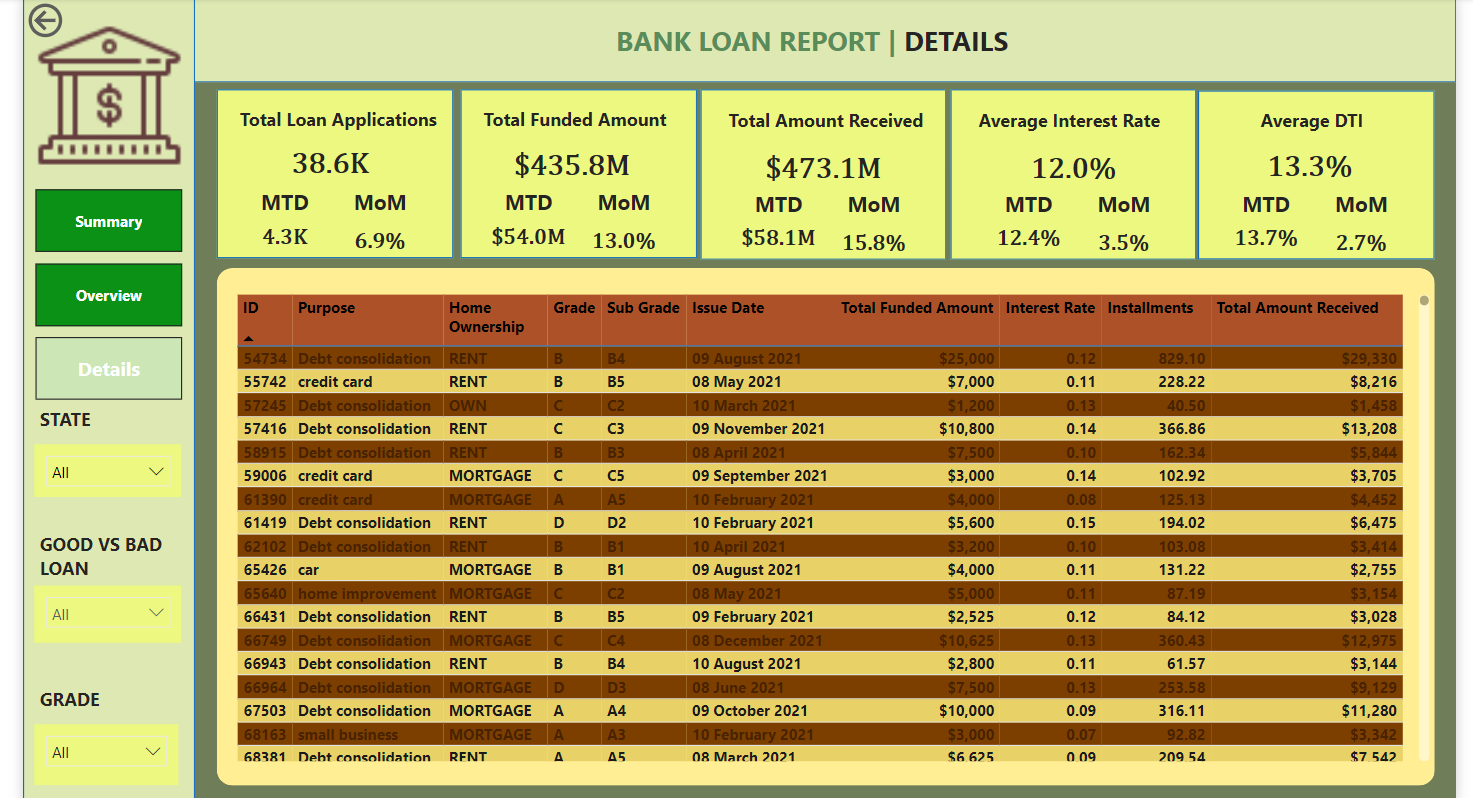

What the dashboard file says about the page in this screenshot:
{"tool":"powerbi","page":{"name":"Details","canvas":[1280,720],"ordinal":2},"visuals":[{"type":"shape","box":[0,0,1280.3,75.5],"z":0},{"type":"shape","box":[172.9,81,211.3,150.9],"z":0,"group":"g1"},{"type":"shape","box":[391.1,81,211.3,150.9],"z":0,"group":"g2"},{"type":"shape","box":[605.1,81,219.6,152.3],"z":0,"group":"g3"},{"type":"shape","box":[828.8,81,219.6,152.3],"z":0,"group":"g5"},{"type":"shape","box":[1049.7,82.3,211.3,150.9],"z":0,"group":"g4"},{"type":"shape","box":[0,0,153.7,720.4],"z":1000},{"type":"card","fields":{"Values":["financial_loan.Total Loan Applications"]},"box":[218.2,116.7,111.1,59],"z":1000,"group":"g1"},{"type":"card","fields":{"Values":["financial_loan.Total Funded Amount"]},"box":[417,121.4,148.2,54.9],"z":1000,"group":"g2"},{"type":"card","fields":{"Values":["financial_loan.Avg DTI"]},"box":[1075.6,122.7,148.2,54.9],"z":1000,"group":"g4"},{"type":"card","fields":{"Values":["financial_loan.Total Amount Received"]},"box":[640.4,123.2,148.2,54.9],"z":1000,"group":"g3"},{"type":"card","fields":{"Values":["financial_loan.Avg Int Rate"]},"box":[864.1,123.2,148.2,54.9],"z":1000,"group":"g5"},{"type":"textbox","box":[524.3,17.1,428.6,47.1],"z":2000},{"type":"textbox","box":[183.9,90.6,200.3,45.3],"z":2000,"group":"g1"},{"type":"textbox","box":[402.1,90.6,200.3,45.3],"z":2000,"group":"g2"},{"type":"textbox","box":[1060.7,91.9,200.3,45.3],"z":2000,"group":"g4"},{"type":"textbox","box":[625.4,92.4,200.3,45.3],"z":2000,"group":"g3"},{"type":"textbox","box":[849.1,92.4,200.3,45.3],"z":2000,"group":"g5"},{"type":"group","id":"g1","title":"Group 1","box":[172.9,81,211.3,159.2],"z":3000},{"type":"card","title":"MTD","fields":{"Values":["financial_loan.MTD Loan Applications"]},"box":[182.5,168.8,101.5,63.1],"z":3000,"group":"g1"},{"type":"card","title":"MTD","fields":{"Values":["financial_loan.MTD Funded Amount"]},"box":[400.7,168.8,101.5,63.1],"z":3000,"group":"g2"},{"type":"card","title":"MTD","fields":{"Values":["financial_loan.MTD dti"]},"box":[1059.3,170.1,101.5,63.1],"z":3000,"group":"g4"},{"type":"card","title":"MTD","fields":{"Values":["financial_loan.MTD Amount Received"]},"box":[624.1,170.7,101.5,63.1],"z":3000,"group":"g3"},{"type":"card","title":"MTD","fields":{"Values":["financial_loan.MTD int rate"]},"box":[847.8,170.7,101.5,63.1],"z":3000,"group":"g5"},{"type":"group","id":"g2","title":"Group 1","box":[391.1,81,211.3,159.2],"z":4000},{"type":"card","title":"MoM","fields":{"Values":["financial_loan.MoM Loan Applications"]},"box":[278.6,168.8,79.6,71.4],"z":4000,"group":"g1"},{"type":"card","title":"MoM","fields":{"Values":["financial_loan.MoM funded amount"]},"box":[496.8,168.8,79.6,71.4],"z":4000,"group":"g2"},{"type":"card","title":"MoM","fields":{"Values":["financial_loan.MoM dti"]},"box":[1155.4,170.1,79.6,71.4],"z":4000,"group":"g4"},{"type":"card","title":"MoM","fields":{"Values":["financial_loan.MoM amount received"]},"box":[720.1,170.7,79.6,71.4],"z":4000,"group":"g3"},{"type":"card","title":"MoM","fields":{"Values":["financial_loan.MoM int rate"]},"box":[943.8,170.7,79.6,71.4],"z":4000,"group":"g5"},{"type":"group","id":"g3","title":"Group 1","box":[605.1,81,220.9,160.5],"z":5000},{"type":"actionButton","box":[0,0,100,40],"z":6000},{"type":"group","id":"g4","title":"Group 1","box":[1049.7,82.3,211.3,159.2],"z":7000},{"type":"group","id":"g5","title":"Group 1","box":[828.8,81,220.9,160.5],"z":8000},{"type":"slicer","fields":{"Values":["financial_loan.address_state"]},"box":[10,398.6,131.4,47.1],"z":9000},{"type":"slicer","fields":{"Values":["financial_loan.Good VS Bad Loan"]},"box":[10,524.3,131.4,51.4],"z":10000},{"type":"slicer","fields":{"Values":["financial_loan.grade"]},"box":[10,648.6,128.6,54.3],"z":11000},{"type":"textbox","box":[10,610,104.3,38.6],"z":12000},{"type":"textbox","box":[9.6,470.7,131.7,54.9],"z":13000},{"type":"textbox","box":[10,360,90,38.6],"z":14000},{"type":"shape","box":[172.9,241.5,1088.2,462.4],"z":15000},{"type":"tableEx","fields":{"Values":["financial_loan.id","financial_loan.purpose","financial_loan.home_ownership","financial_loan.grade","financial_loan.sub_grade","financial_loan.issue_date","financial_loan.Total Funded Amount","Sum(financial_loan.int_rate)","Sum(financial_loan.installment)","financial_loan.Total Amount Received"]},"box":[185.2,260.7,1075.8,426.8],"z":18001},{"type":"image","box":[0,12.3,153.7,149.6],"z":18002},{"type":"pageNavigator","box":[11.5,170.7,131.7,190.7],"z":18003}]}

Visuals, with their boxes on the page's 1280x720 design canvas (x1, y1, x2, y2). These are canvas units, not pixel positions in the 1473x798 screenshot, which may show the page scaled, cropped or inside an application window:
shape: 0, 0, 1280, 76
shape: 173, 81, 384, 232
shape: 391, 81, 602, 232
shape: 605, 81, 825, 233
shape: 829, 81, 1048, 233
shape: 1050, 82, 1261, 233
shape: 0, 0, 154, 720
card - financial_loan.Total Loan Applications: 218, 117, 329, 176
card - financial_loan.Total Funded Amount: 417, 121, 565, 176
card - financial_loan.Avg DTI: 1076, 123, 1224, 178
card - financial_loan.Total Amount Received: 640, 123, 789, 178
card - financial_loan.Avg Int Rate: 864, 123, 1012, 178
textbox: 524, 17, 953, 64
textbox: 184, 91, 384, 136
textbox: 402, 91, 602, 136
textbox: 1061, 92, 1261, 137
textbox: 625, 92, 826, 138
textbox: 849, 92, 1049, 138
"Group 1" group: 173, 81, 384, 240
"MTD" card: 182, 169, 284, 232
"MTD" card: 401, 169, 502, 232
"MTD" card: 1059, 170, 1161, 233
"MTD" card: 624, 171, 726, 234
"MTD" card: 848, 171, 949, 234
"Group 1" group: 391, 81, 602, 240
"MoM" card: 279, 169, 358, 240
"MoM" card: 497, 169, 576, 240
"MoM" card: 1155, 170, 1235, 242
"MoM" card: 720, 171, 800, 242
"MoM" card: 944, 171, 1023, 242
"Group 1" group: 605, 81, 826, 242
actionButton: 0, 0, 100, 40
"Group 1" group: 1050, 82, 1261, 242
"Group 1" group: 829, 81, 1050, 242
slicer - financial_loan.address_state: 10, 399, 141, 446
slicer - financial_loan.Good VS Bad Loan: 10, 524, 141, 576
slicer - financial_loan.grade: 10, 649, 139, 703
textbox: 10, 610, 114, 649
textbox: 10, 471, 141, 526
textbox: 10, 360, 100, 399
shape: 173, 242, 1261, 704
tableEx - financial_loan.id x financial_loan.purpose: 185, 261, 1261, 688
image: 0, 12, 154, 162
pageNavigator: 12, 171, 143, 361
